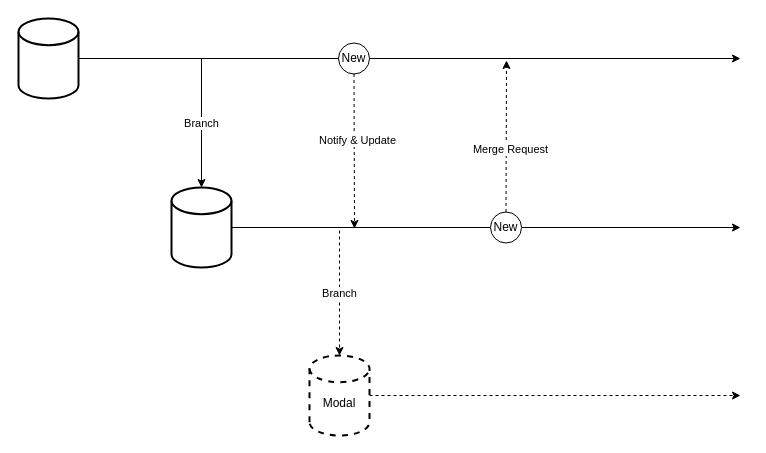
Image size: 766x453. Some labels were removed from this diagram. The box of each missing label's shape, as (x1, y1, x2, y2) in pixels:
Main: (17, 17, 79, 99)
Product: (170, 186, 232, 268)
